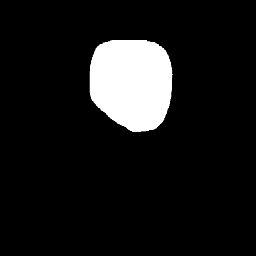mass: (88, 48, 170, 163)
